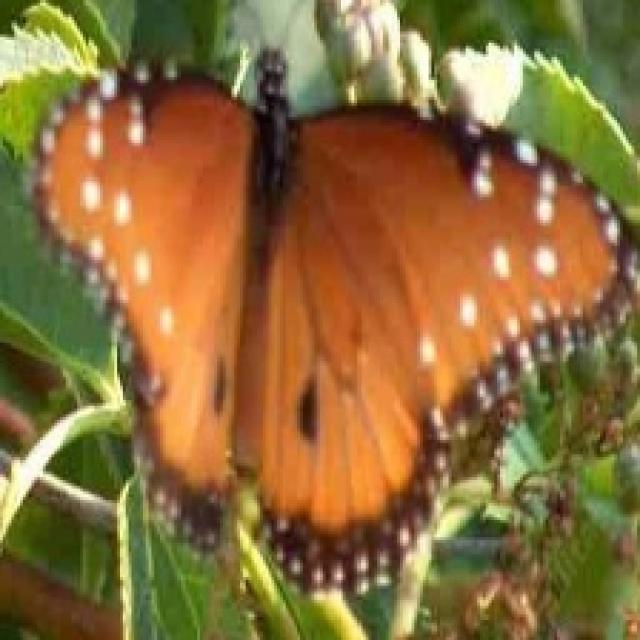butterfly: (26, 43, 637, 597)
